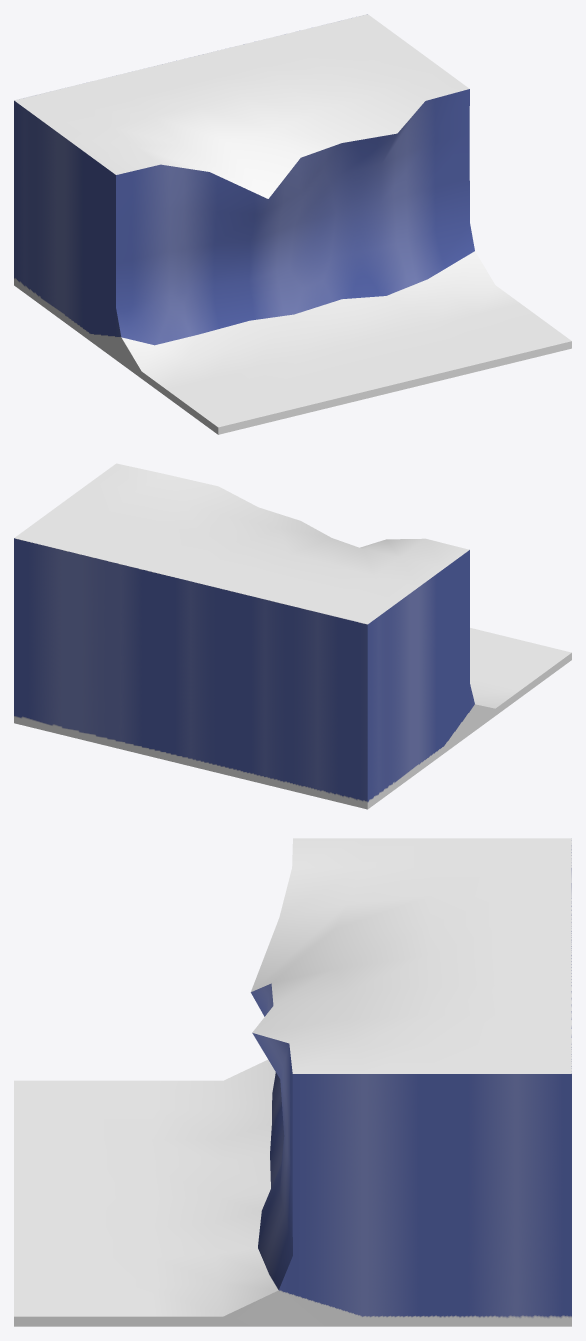
Rendered from wall_slim_tip_1.glb.
The picture shows the model from 3 angles, top to bottom: view 1: azimuth 30°, elevation 25°; view 2: azimuth 150°, elevation 25°; view 3: azimuth 270°, elevation 25°; orthographic projection. The views are drawn at different scales.
Visible parts, largest first — view 1: wall_straight_1.001; view 2: wall_straight_1.001; view 3: wall_straight_1.001.
Part boxes in pixels (x1,y1,x2,y2): wall_straight_1.001: [14, 14, 571, 434]; wall_straight_1.001: [14, 463, 571, 809]; wall_straight_1.001: [14, 838, 571, 1326].
Size of the model in its own units: 2 by 1 by 2.
Materials: 1 (1 with a texture image).
